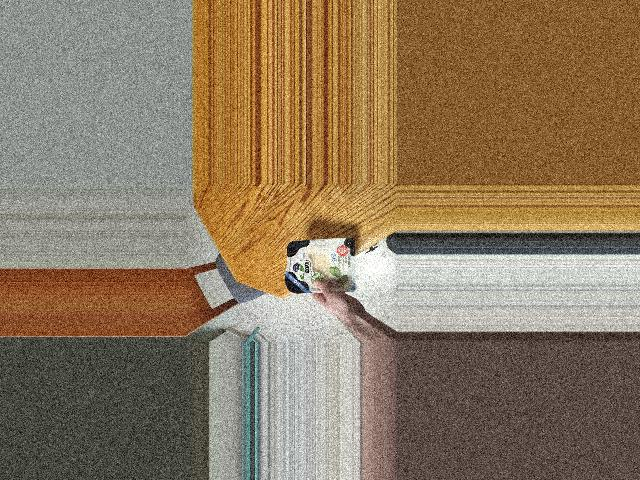cheese: (269, 238, 371, 295)
